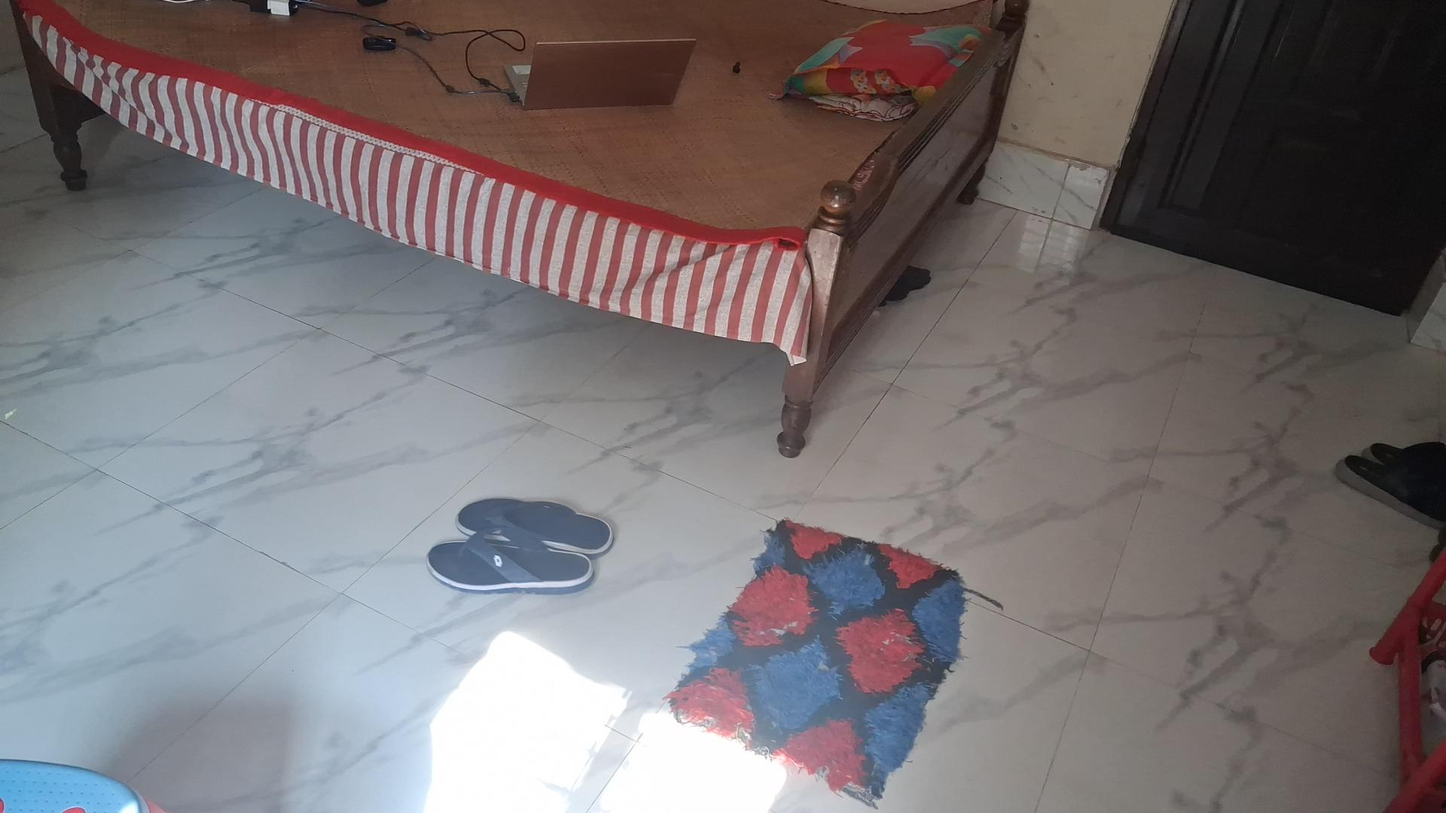Floor Mat: (672, 521, 966, 805)
Footwear: (428, 498, 617, 595)
Laptop: (504, 38, 697, 111)
Pillow: (779, 8, 982, 107)
